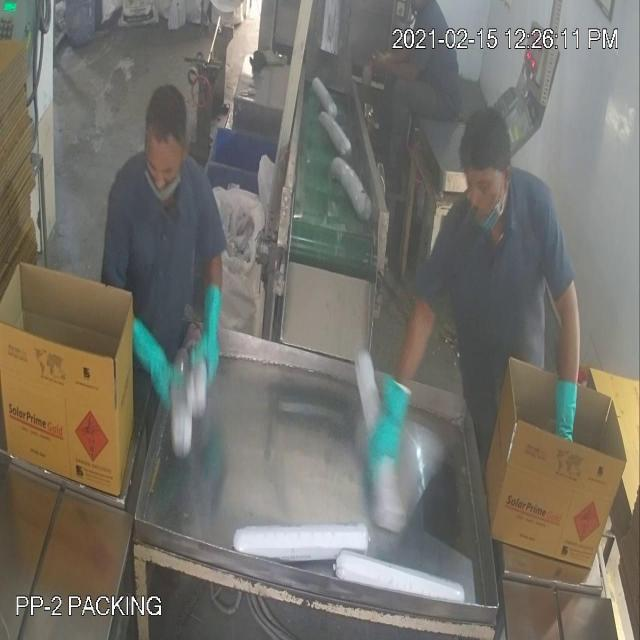No_Gloves: (38, 40, 564, 430)
